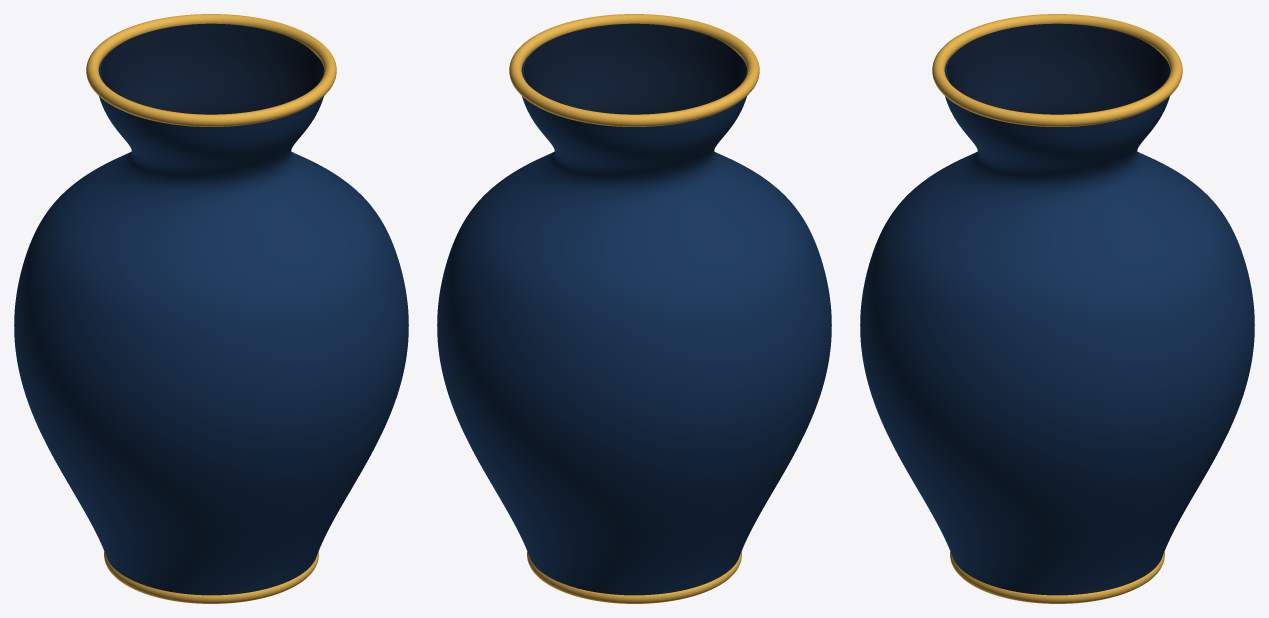
The picture shows the model from 3 angles, left to right: view 1: azimuth 30°, elevation 25°; view 2: azimuth 150°, elevation 25°; view 3: azimuth 270°, elevation 25°; orthographic projection.
Visible parts, largest first — view 1: part_0, part_1, part_2, part_4; view 2: part_0, part_1, part_2, part_4; view 3: part_0, part_1, part_2, part_4.
Boxes of the visible parts, box(x1,y1,x2,y2) form: part_0: box(14, 54, 408, 595); part_1: box(101, 23, 321, 114); part_2: box(86, 14, 336, 126); part_4: box(104, 552, 318, 603); part_0: box(437, 54, 831, 595); part_1: box(524, 23, 744, 114); part_2: box(509, 14, 759, 126); part_4: box(527, 552, 741, 603); part_0: box(860, 54, 1254, 595); part_1: box(947, 23, 1167, 114); part_2: box(932, 14, 1182, 126); part_4: box(950, 552, 1164, 603).
Size of the model in its own units: 2.2 by 3.06 by 2.2.
